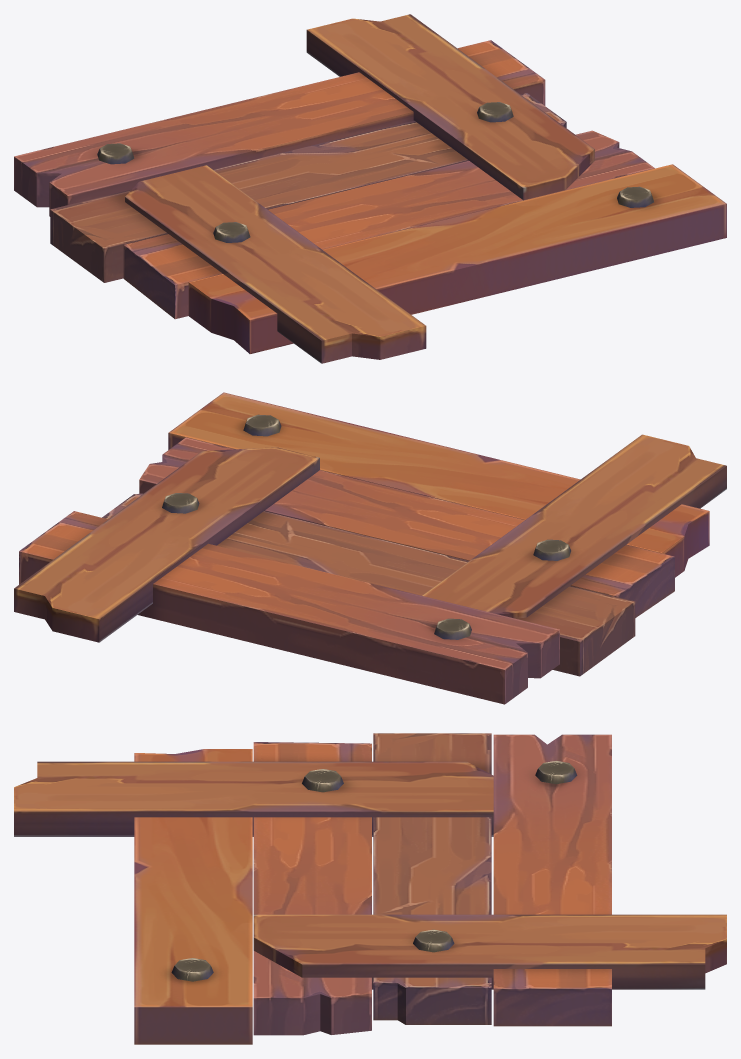
File: scenes_town_road02.FBX
3 views of the same model, one above another, from view 1: azimuth 30°, elevation 25°; view 2: azimuth 150°, elevation 25°; view 3: azimuth 270°, elevation 25° (orthographic). The views are drawn at different scales.
Visible parts, largest first — view 1: scenes_town_road02; view 2: scenes_town_road02; view 3: scenes_town_road02.
Part boxes in pixels (left/top/right/bottom): scenes_town_road02: left=14, top=14, right=726, bottom=363; scenes_town_road02: left=14, top=392, right=726, bottom=704; scenes_town_road02: left=14, top=733, right=726, bottom=1044.
Bounding box in the file's own units: 646 × 62.5 × 711.
